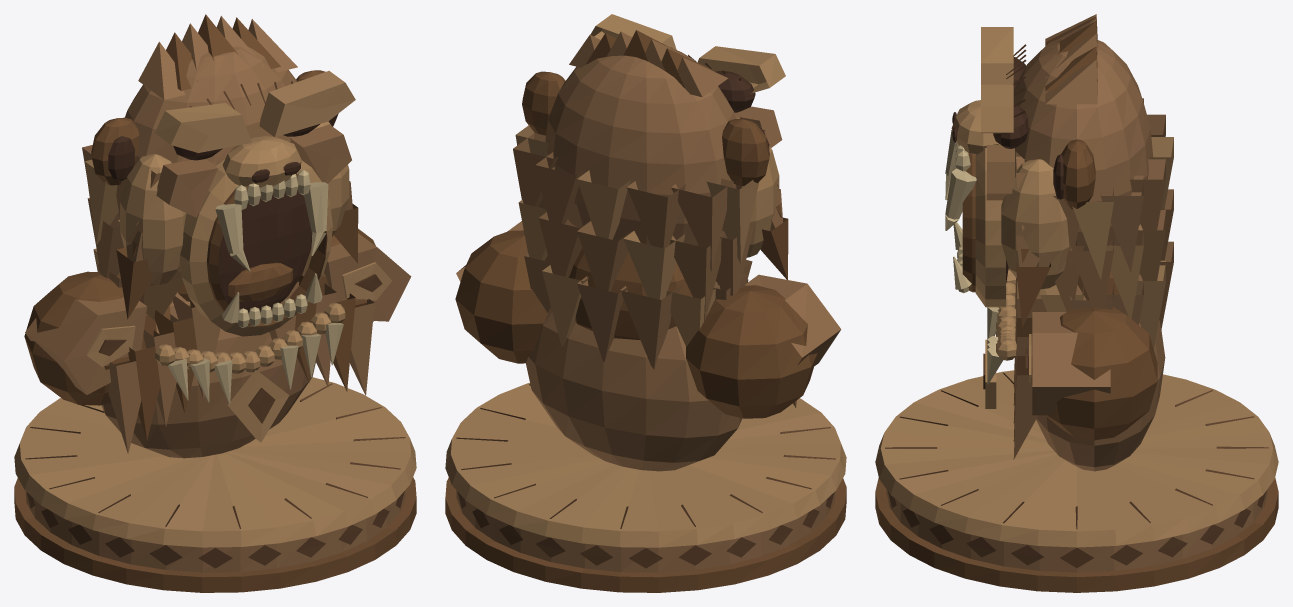
Rendered from wooden_chieftain.glb.
3 renders of one model, left to right at view 1: azimuth 30°, elevation 25°; view 2: azimuth 150°, elevation 25°; view 3: azimuth 270°, elevation 25°, orthographic.
Visible parts, largest first — view 1: WoodenChieftainCarving; view 2: WoodenChieftainCarving; view 3: WoodenChieftainCarving.
Boxes of the visible parts, bbox=[...] form: WoodenChieftainCarving: bbox=[14, 14, 416, 592]; WoodenChieftainCarving: bbox=[445, 14, 846, 592]; WoodenChieftainCarving: bbox=[875, 14, 1278, 592].
Bounding box in the file's own units: 3.7 × 4.93 × 3.7.
